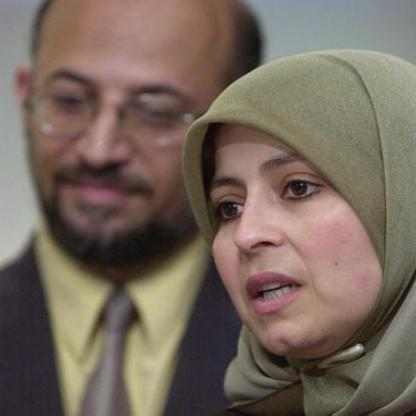face: (189, 61, 415, 363), (24, 1, 245, 274)
